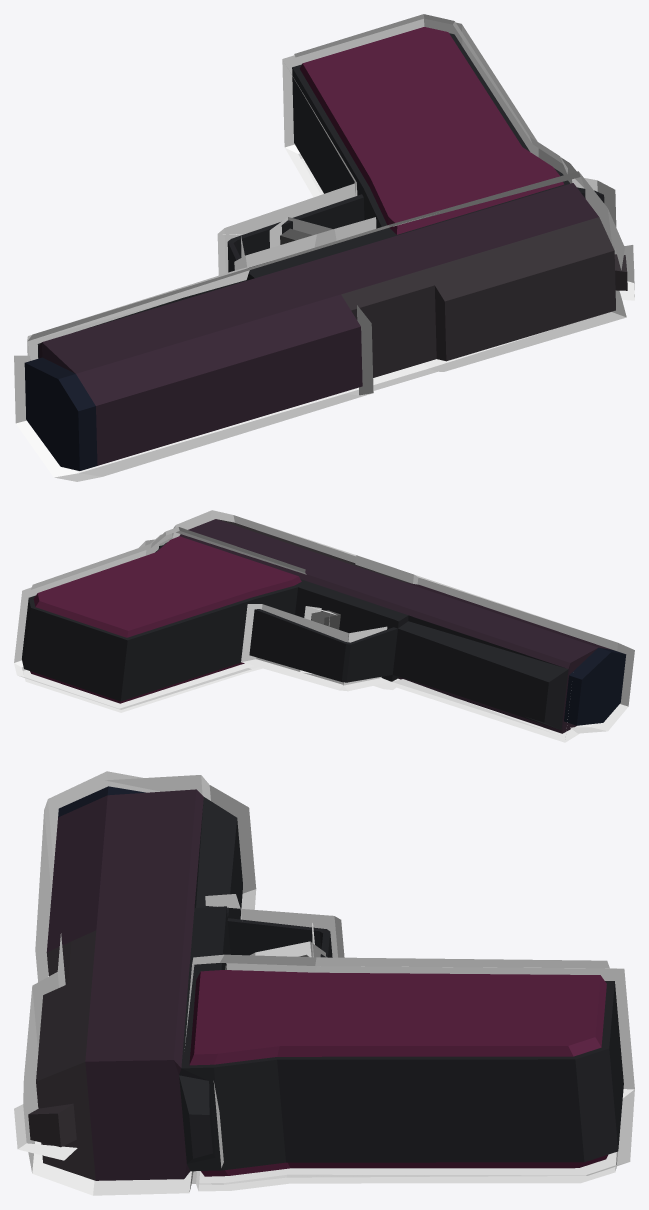
The model's file is PistolSeparate.gltf.
The picture shows the model from 3 angles, top to bottom: view 1: azimuth 30°, elevation 25°; view 2: azimuth 150°, elevation 25°; view 3: azimuth 270°, elevation 25°; orthographic projection. The views are drawn at different scales.
Parts seen in each view (by area): view 1: Pistol; view 2: Pistol; view 3: Pistol.
Boxes of the visible parts, x1,y1,x2,y2 form: Pistol: (14,14,634,481); Pistol: (14,510,634,742); Pistol: (14,771,634,1195).
Bounding box in the file's own units: 0.1087 × 0.0319 × 0.0773.
Materials: 2 (1 with a texture image).
